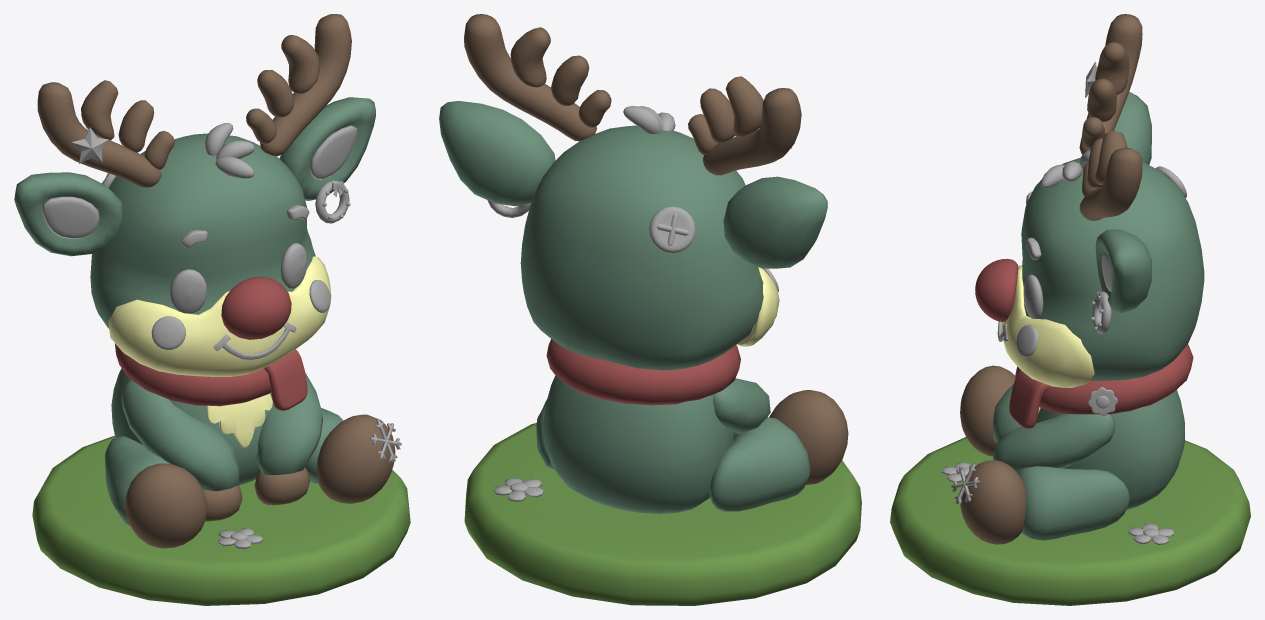
Rendered from Reindeer.fbx.
3 views of the same model, side by side, from view 1: azimuth 30°, elevation 25°; view 2: azimuth 150°, elevation 25°; view 3: azimuth 270°, elevation 25° (orthographic). The views are drawn at different scales.
Visible parts, largest first — view 1: S_Reindeer, M_reindeer_11, M_reindeer_6, M_reindeer_20, M_reindeer_10, M_reindeer_8, D_Reindeer_6, M_reindeer_13, D_Reindeer_5, D_Reindeer_1, M_reindeer_15, D_Reindeer_16 (+8 smaller); view 2: S_Reindeer, M_reindeer_10, M_reindeer_8, M_reindeer_11, D_Reindeer_11, D_Reindeer_10; view 3: S_Reindeer, M_reindeer_10, M_reindeer_14, M_reindeer_6, M_reindeer_11, M_reindeer_20, D_Reindeer_10, D_Reindeer_16, D_Reindeer_3, D_Reindeer_12, D_Reindeer_4, D_Reindeer_14.
Boxes of the visible parts, <box> form: S_Reindeer: <box>14,14,410,605</box>; M_reindeer_11: <box>125,463,207,548</box>; M_reindeer_6: <box>316,414,395,503</box>; M_reindeer_20: <box>221,276,291,339</box>; M_reindeer_10: <box>111,368,273,485</box>; M_reindeer_8: <box>105,436,169,525</box>; D_Reindeer_6: <box>42,196,99,238</box>; M_reindeer_13: <box>254,467,309,505</box>; D_Reindeer_5: <box>310,125,356,179</box>; D_Reindeer_1: <box>169,269,206,313</box>; M_reindeer_15: <box>203,485,242,521</box>; D_Reindeer_16: <box>315,180,350,223</box>; S_Reindeer: <box>439,14,861,605</box>; M_reindeer_10: <box>543,376,734,513</box>; M_reindeer_8: <box>709,417,810,511</box>; M_reindeer_11: <box>769,390,848,485</box>; D_Reindeer_11: <box>649,206,695,253</box>; D_Reindeer_10: <box>493,478,543,501</box>; S_Reindeer: <box>890,14,1250,605</box>; M_reindeer_10: <box>1036,390,1184,509</box>; M_reindeer_14: <box>1017,466,1129,540</box>; M_reindeer_6: <box>960,460,1026,544</box>; M_reindeer_11: <box>960,365,1015,456</box>; M_reindeer_20: <box>975,258,1018,321</box>; D_Reindeer_10: <box>1128,523,1173,544</box>; D_Reindeer_16: <box>1090,291,1111,333</box>; D_Reindeer_3: <box>1023,274,1043,319</box>; D_Reindeer_12: <box>1087,386,1117,415</box>; D_Reindeer_4: <box>1016,324,1038,357</box>; D_Reindeer_14: <box>951,463,980,503</box>.
Size of the model in its own units: 270 by 332 by 241.
